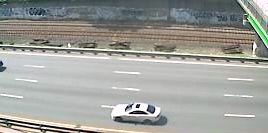car: (109, 99, 164, 126)
